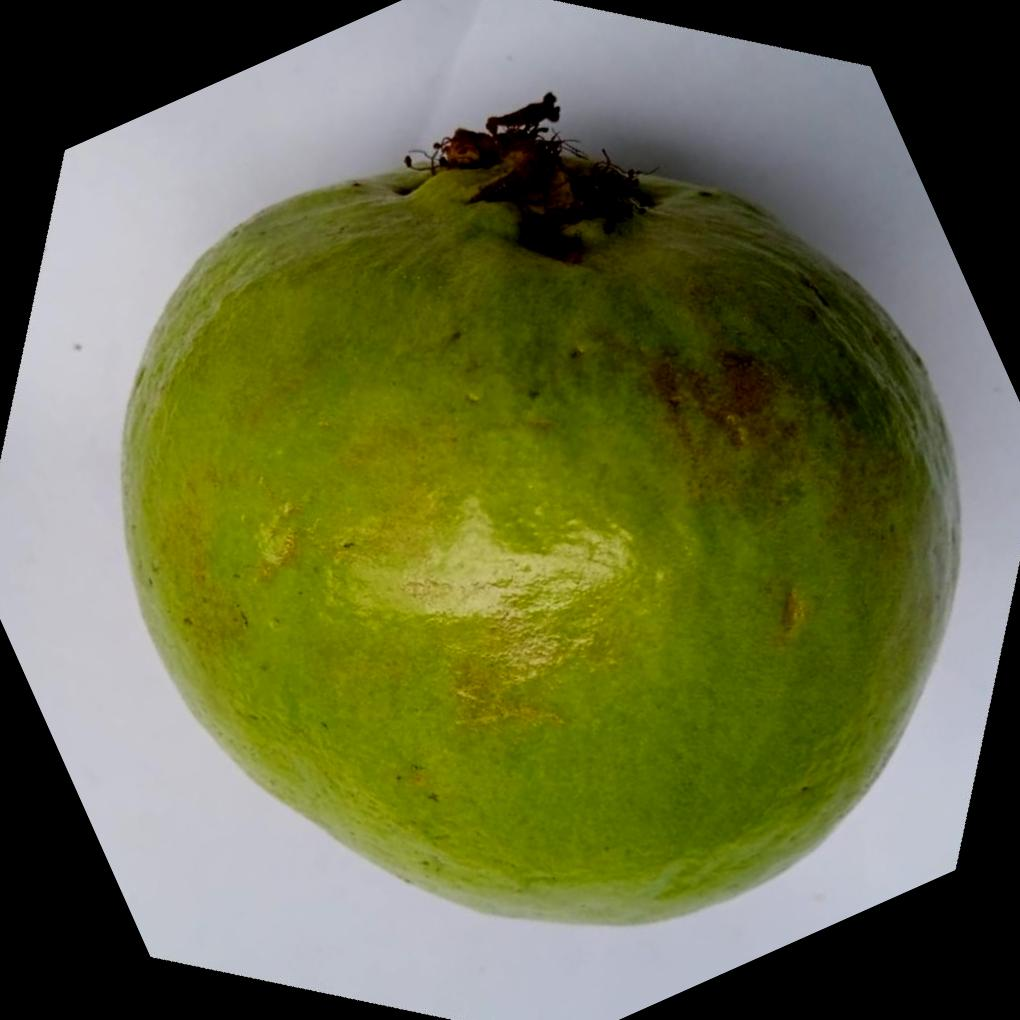FreshGuava: (117, 98, 963, 932)
